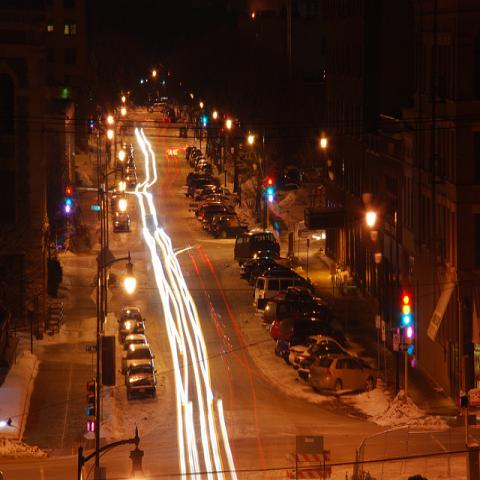car: (109, 205, 335, 362), (308, 352, 378, 398), (262, 286, 332, 324), (287, 334, 358, 369), (250, 276, 310, 316), (233, 231, 281, 267), (249, 263, 300, 289), (269, 312, 304, 343), (117, 306, 145, 343), (127, 363, 159, 394), (125, 342, 156, 371), (212, 217, 252, 238), (120, 332, 148, 352), (298, 356, 314, 383)
